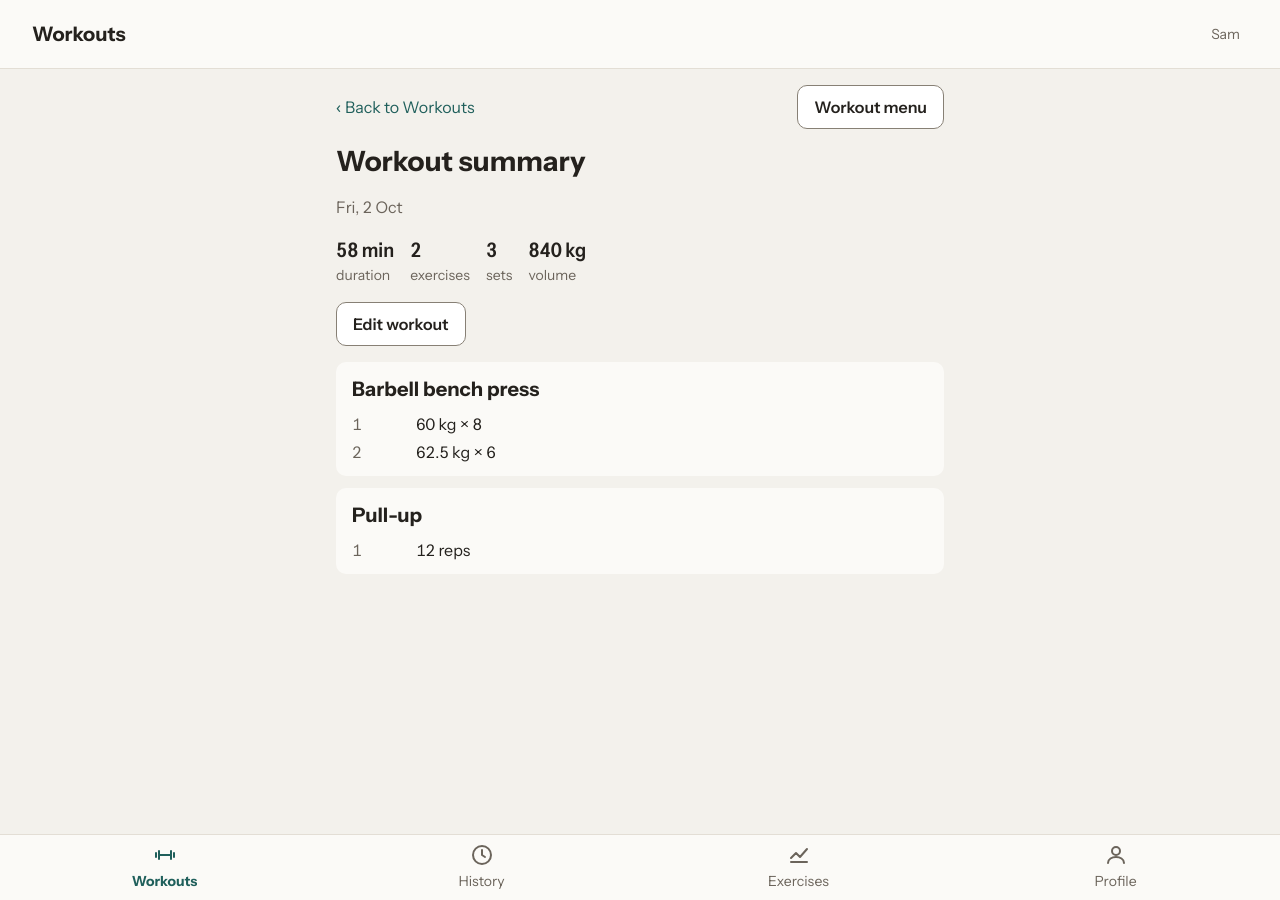
AC30 — finished workout summary › Delete workout asks first, then deletes and returns to Workouts
The width and height of the screenshot is (1280, 900).
Check: the heading "Workout summary" is shown, box [336, 144, 585, 178]
Click the button "Workout menu" at x=871, y=107, box [797, 85, 944, 129]
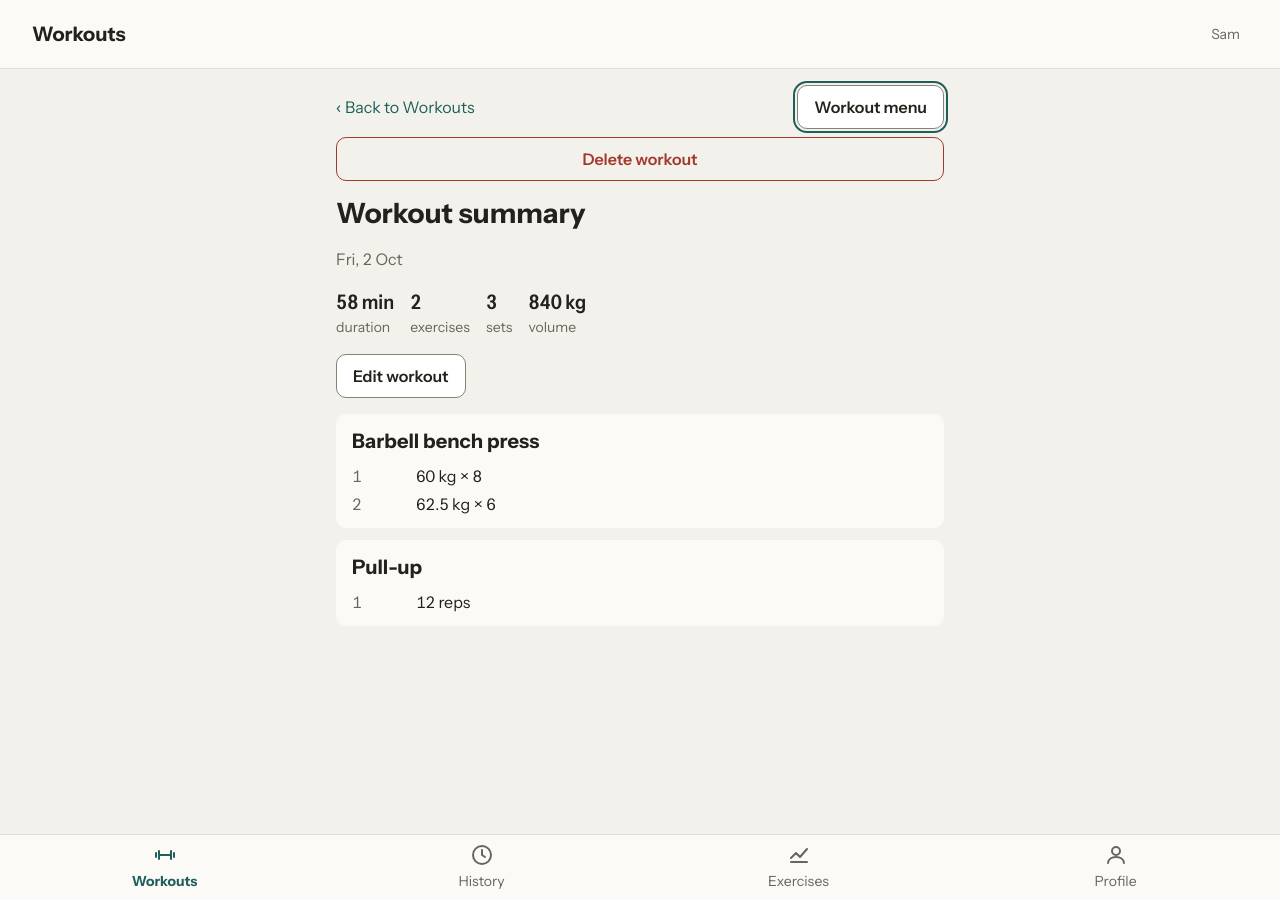
Click the button "Delete workout" at x=640, y=159, box [336, 137, 944, 181]
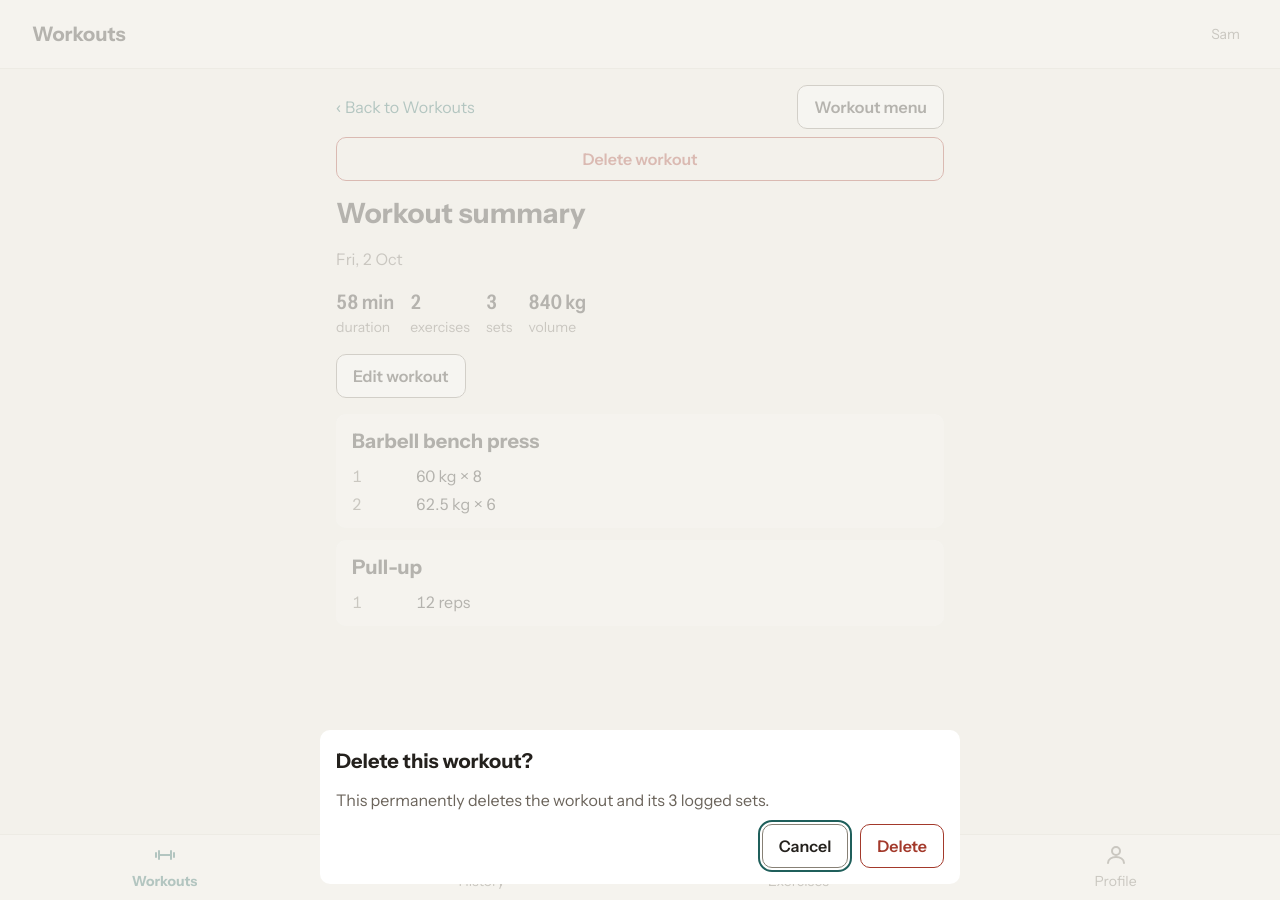
Check: the dialog "Delete this workout?" shows "3 logged sets", box [668, 790, 765, 810]
Click the button "Delete" at x=902, y=846, box [860, 824, 944, 868]
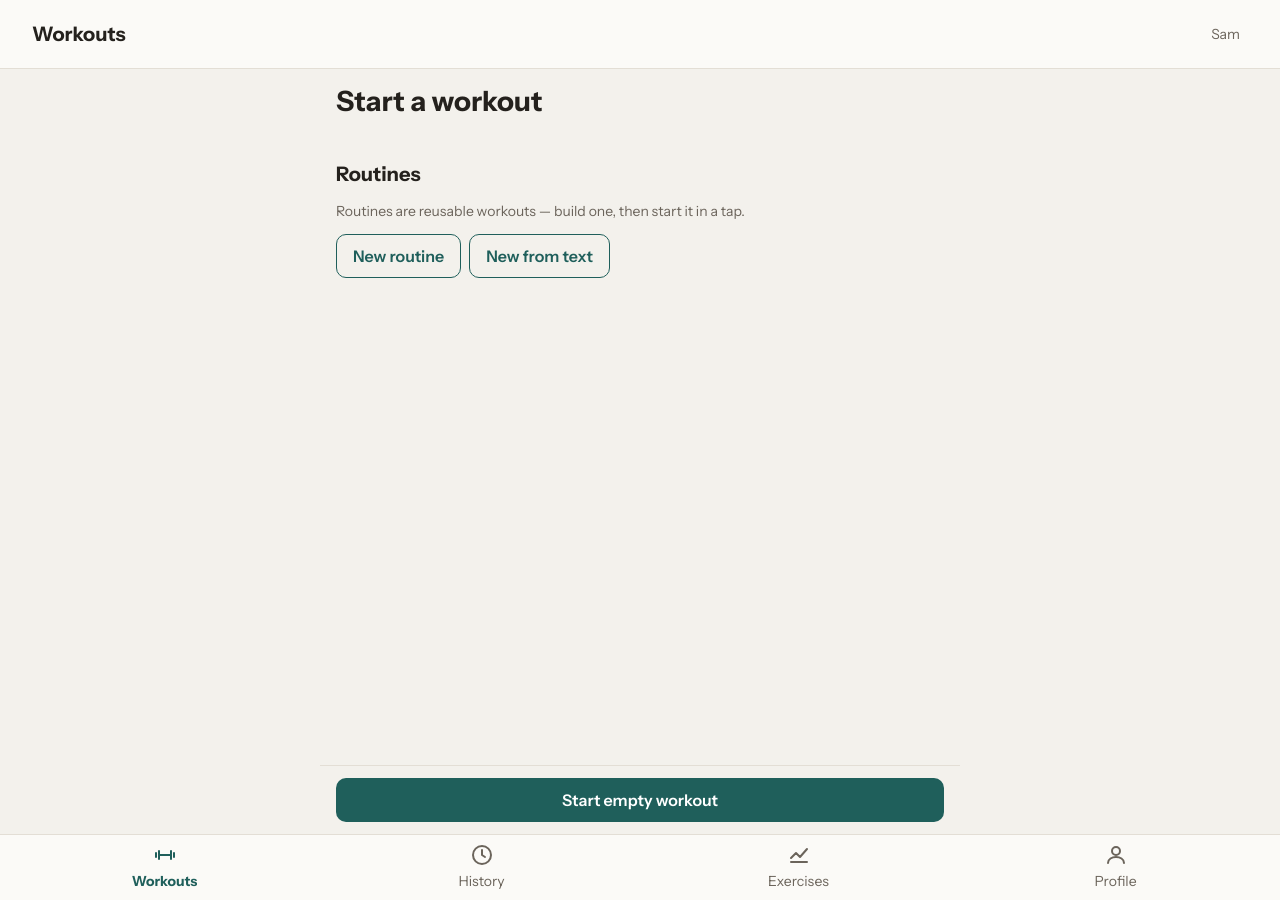
Check: the heading "Start a workout" is shown, box [336, 84, 542, 118]
